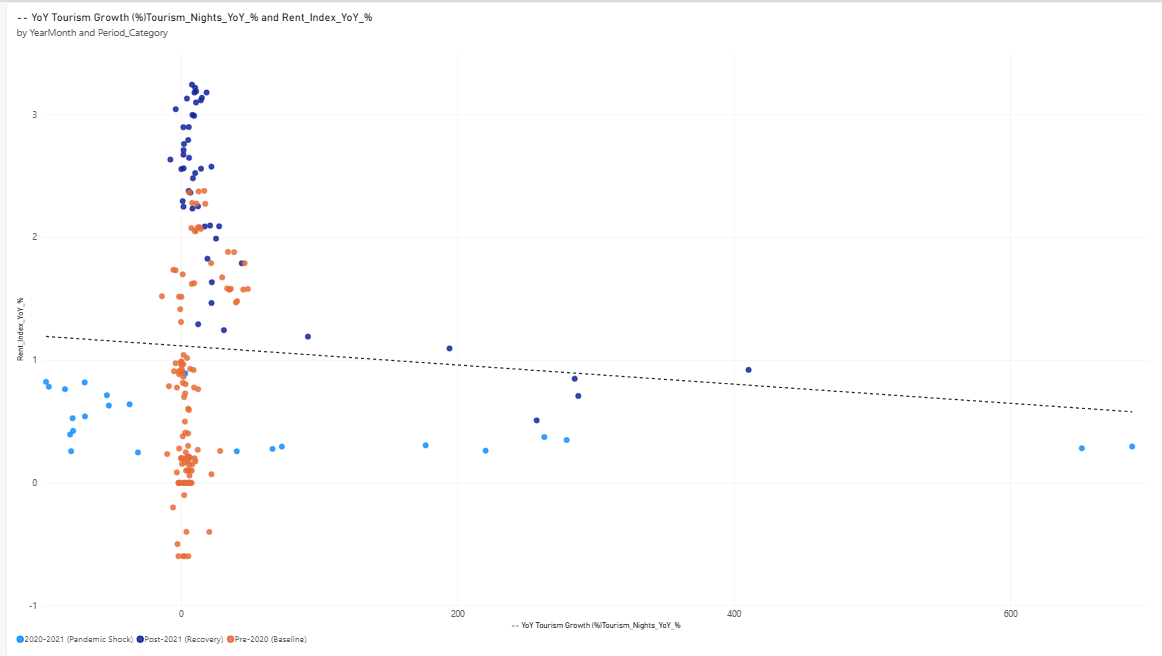

The page's visual inventory and layout, read from the dashboard file:
{"tool":"powerbi","page":{"name":"De-seasonalized Correlation & Economics","canvas":[1920,1080],"ordinal":1},"visuals":[{"type":"scatterChart","fields":{"X":["cleaned_rent_data.-- YoY Tourism Growth (%)Tourism_Nights_YoY_%"],"Y":["cleaned_rent_data.Rent_Index_YoY_%"],"Category":["Calendar.YearMonth"]},"box":[10.3,0,1910.1,1080.6],"z":0}]}

Visuals, with their boxes in screenshot pixels (x1, y1, x2, y2), scaled from the page's 1920x1080 canvas onto the 1162x656 screenshot:
scatterChart - cleaned_rent_data.-- YoY Tourism Growth (%)Tourism_Nights_YoY_% x cleaned_rent_data.Rent_Index_YoY_%: (x1=6, y1=0, x2=1161, y2=655)
